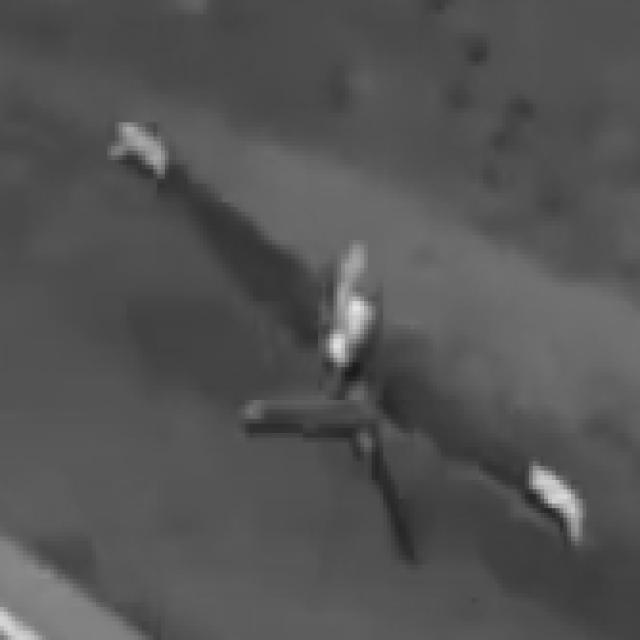iha: (47, 58, 579, 555)
